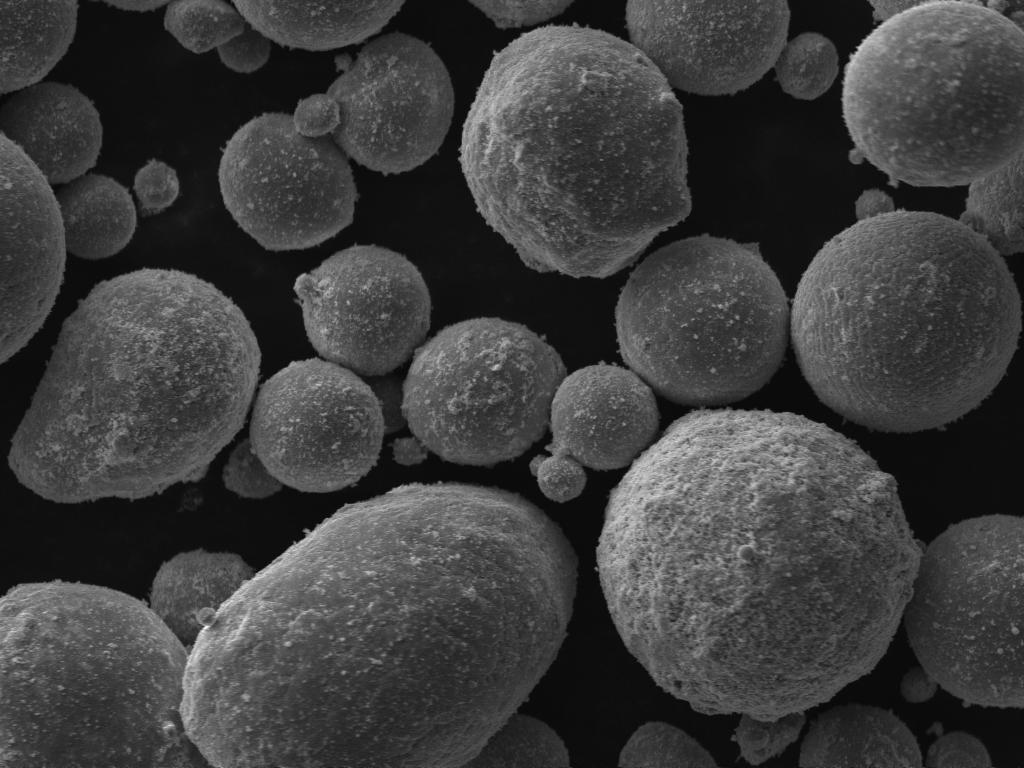Powder: (598, 410, 922, 763), (180, 484, 576, 765), (460, 26, 692, 278), (8, 270, 260, 502), (792, 190, 1022, 431), (0, 580, 206, 766), (842, 2, 1024, 186), (616, 236, 790, 406), (222, 358, 406, 498), (402, 318, 566, 466), (902, 514, 1024, 707), (220, 94, 356, 250), (626, 0, 838, 100), (530, 362, 660, 502), (328, 32, 454, 174), (294, 246, 430, 376), (0, 132, 66, 361), (0, 82, 102, 184), (150, 548, 254, 646), (234, 1, 404, 50), (800, 704, 922, 767), (0, 0, 78, 93), (56, 174, 136, 259), (960, 150, 1024, 255), (464, 714, 568, 768), (618, 722, 716, 768), (164, 0, 246, 53), (470, 1, 574, 28), (134, 158, 180, 215), (218, 24, 270, 73), (926, 732, 992, 768), (869, 0, 928, 21), (390, 436, 428, 465), (104, 1, 170, 12), (334, 52, 354, 71)
